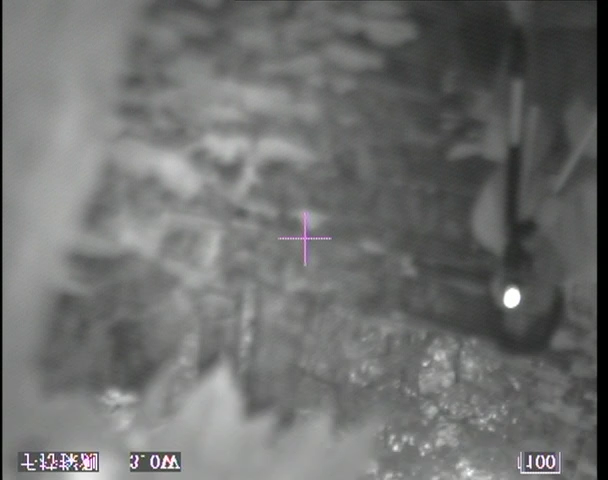my: (504, 285, 523, 309)
